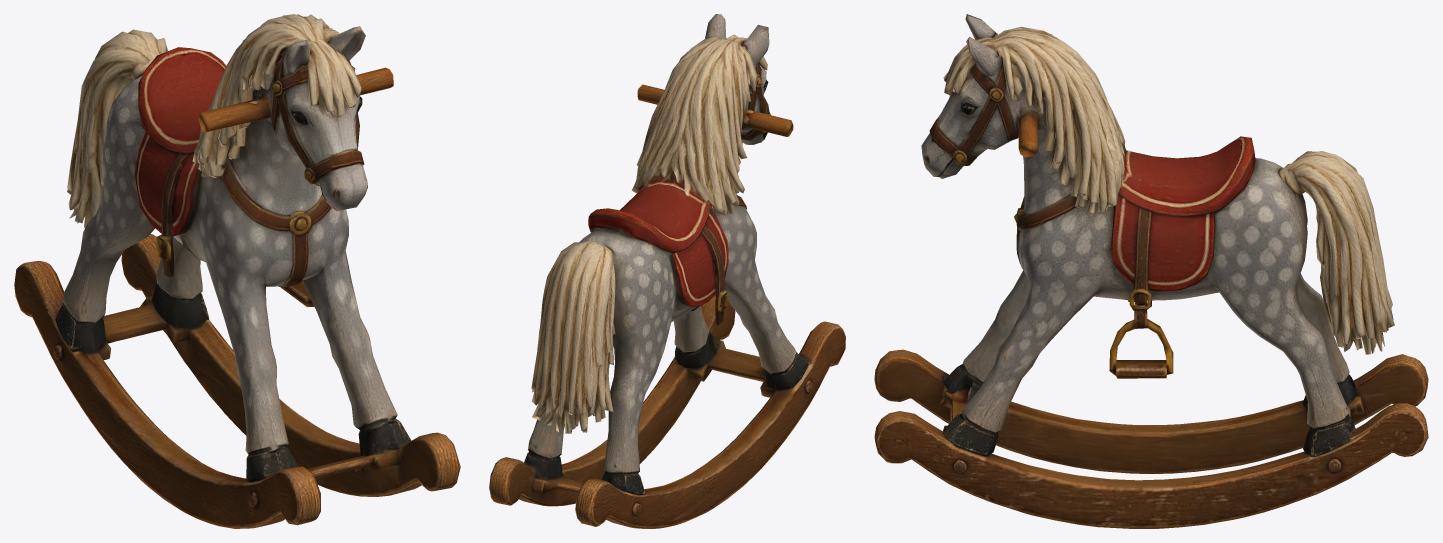
Rendered from horse.glb.
The picture shows the model from 3 angles, left to right: view 1: azimuth 30°, elevation 25°; view 2: azimuth 150°, elevation 25°; view 3: azimuth 270°, elevation 25°; orthographic projection. The views are drawn at different scales.
Visible parts, largest first — view 1: node_ee37d83b-1534-439b-8b9b-7795c85114ae; view 2: node_ee37d83b-1534-439b-8b9b-7795c85114ae; view 3: node_ee37d83b-1534-439b-8b9b-7795c85114ae.
Part boxes in pixels (x1,y1,x2,y2): node_ee37d83b-1534-439b-8b9b-7795c85114ae: (14,14,460,528); node_ee37d83b-1534-439b-8b9b-7795c85114ae: (489,14,845,528); node_ee37d83b-1534-439b-8b9b-7795c85114ae: (874,14,1428,528).
Size of the model in its own units: 0.3521 by 0.9404 by 1.
Materials: 1 (1 with a texture image).
